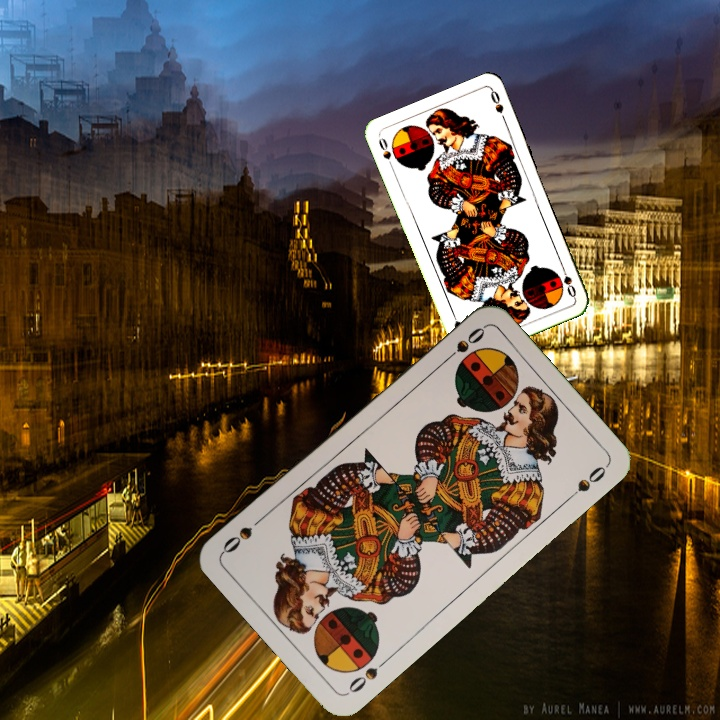SO: (438, 322, 488, 367), (343, 654, 392, 697), (557, 261, 579, 300), (374, 132, 396, 171)
